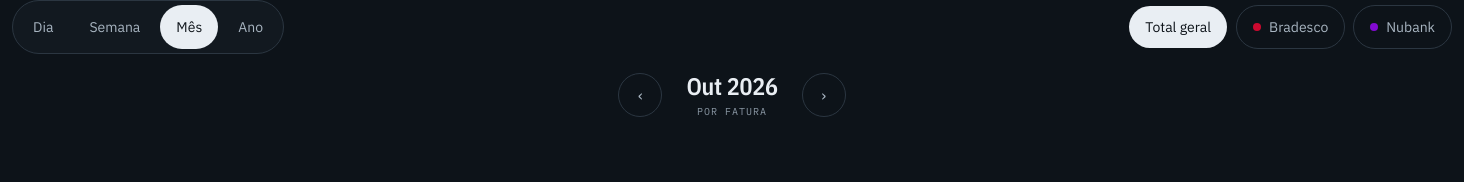
Test: BarraFiltros › escreve o período escolhido na URL
Click the button "Ano". click: (251, 27)
box: [222,5,279,49]
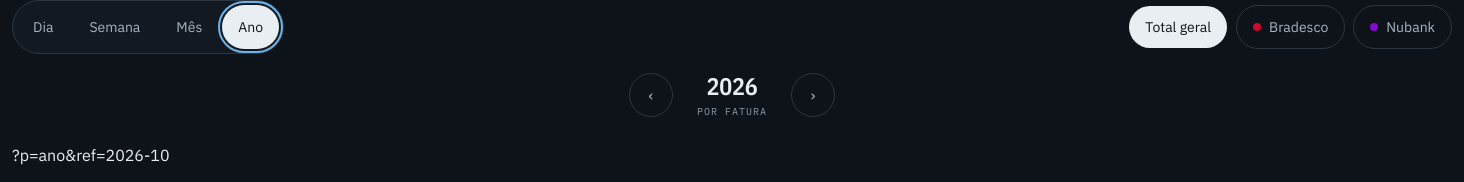
Now the text with test id "url" shows "p=ano", box [12,145,170,165]
